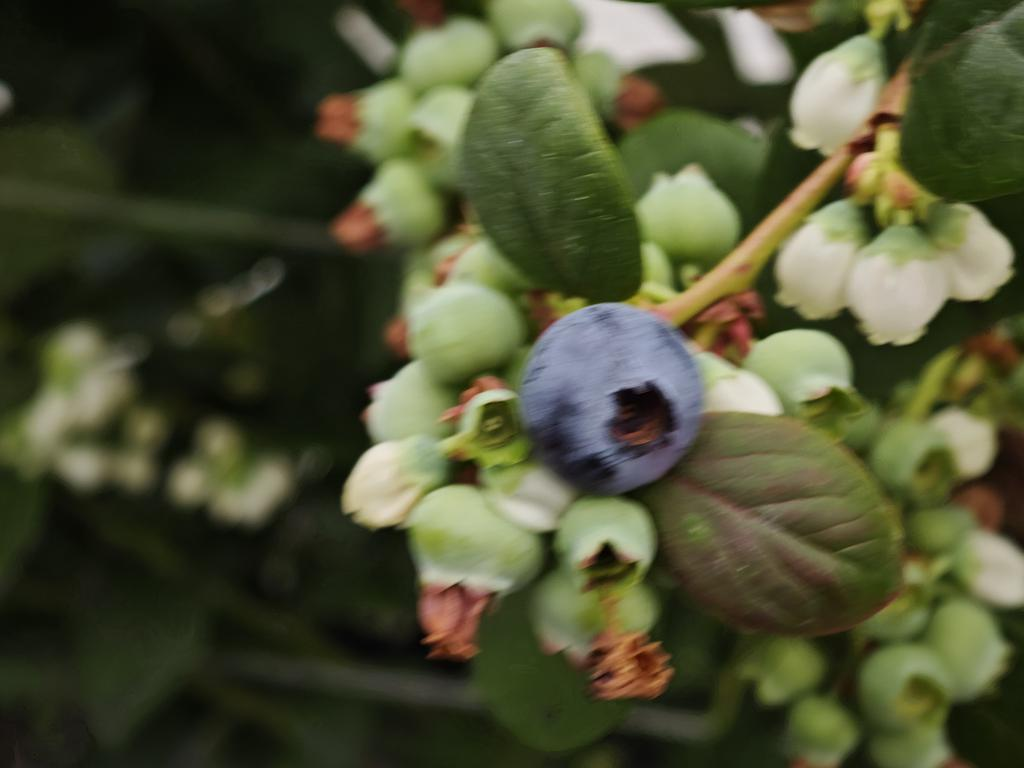RipeBlueBerry: (519, 301, 703, 495)
